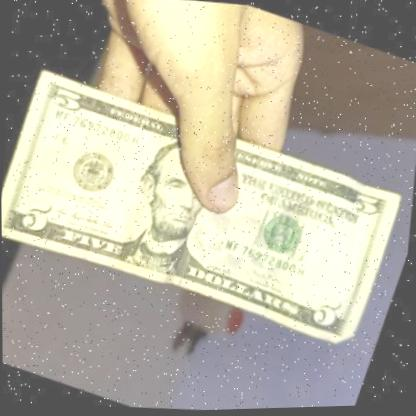dollar_front: (0, 54, 416, 365)
